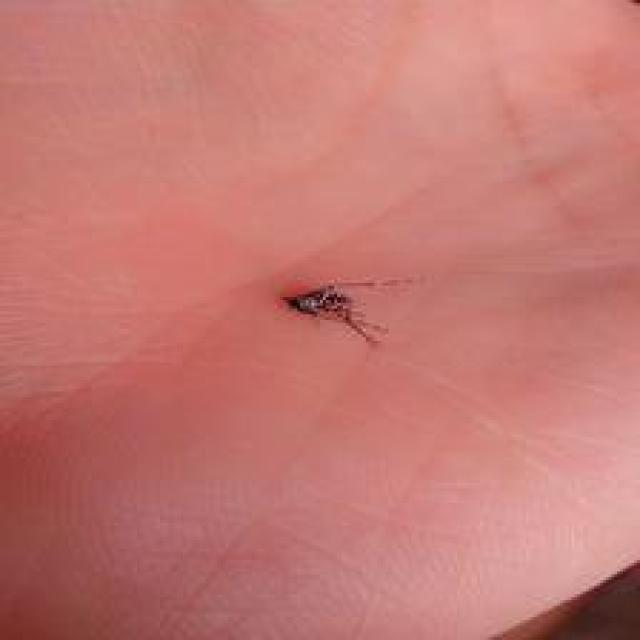Aedes albopictus: (281, 280, 390, 346)
